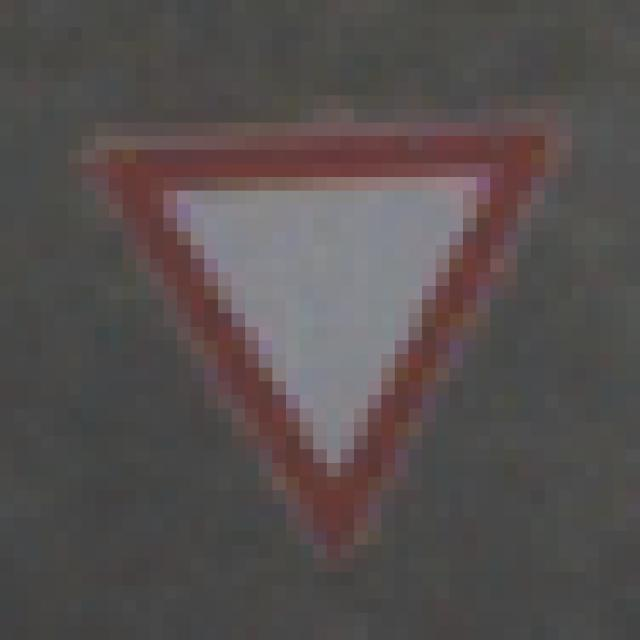Give Way: (69, 69, 573, 573)
